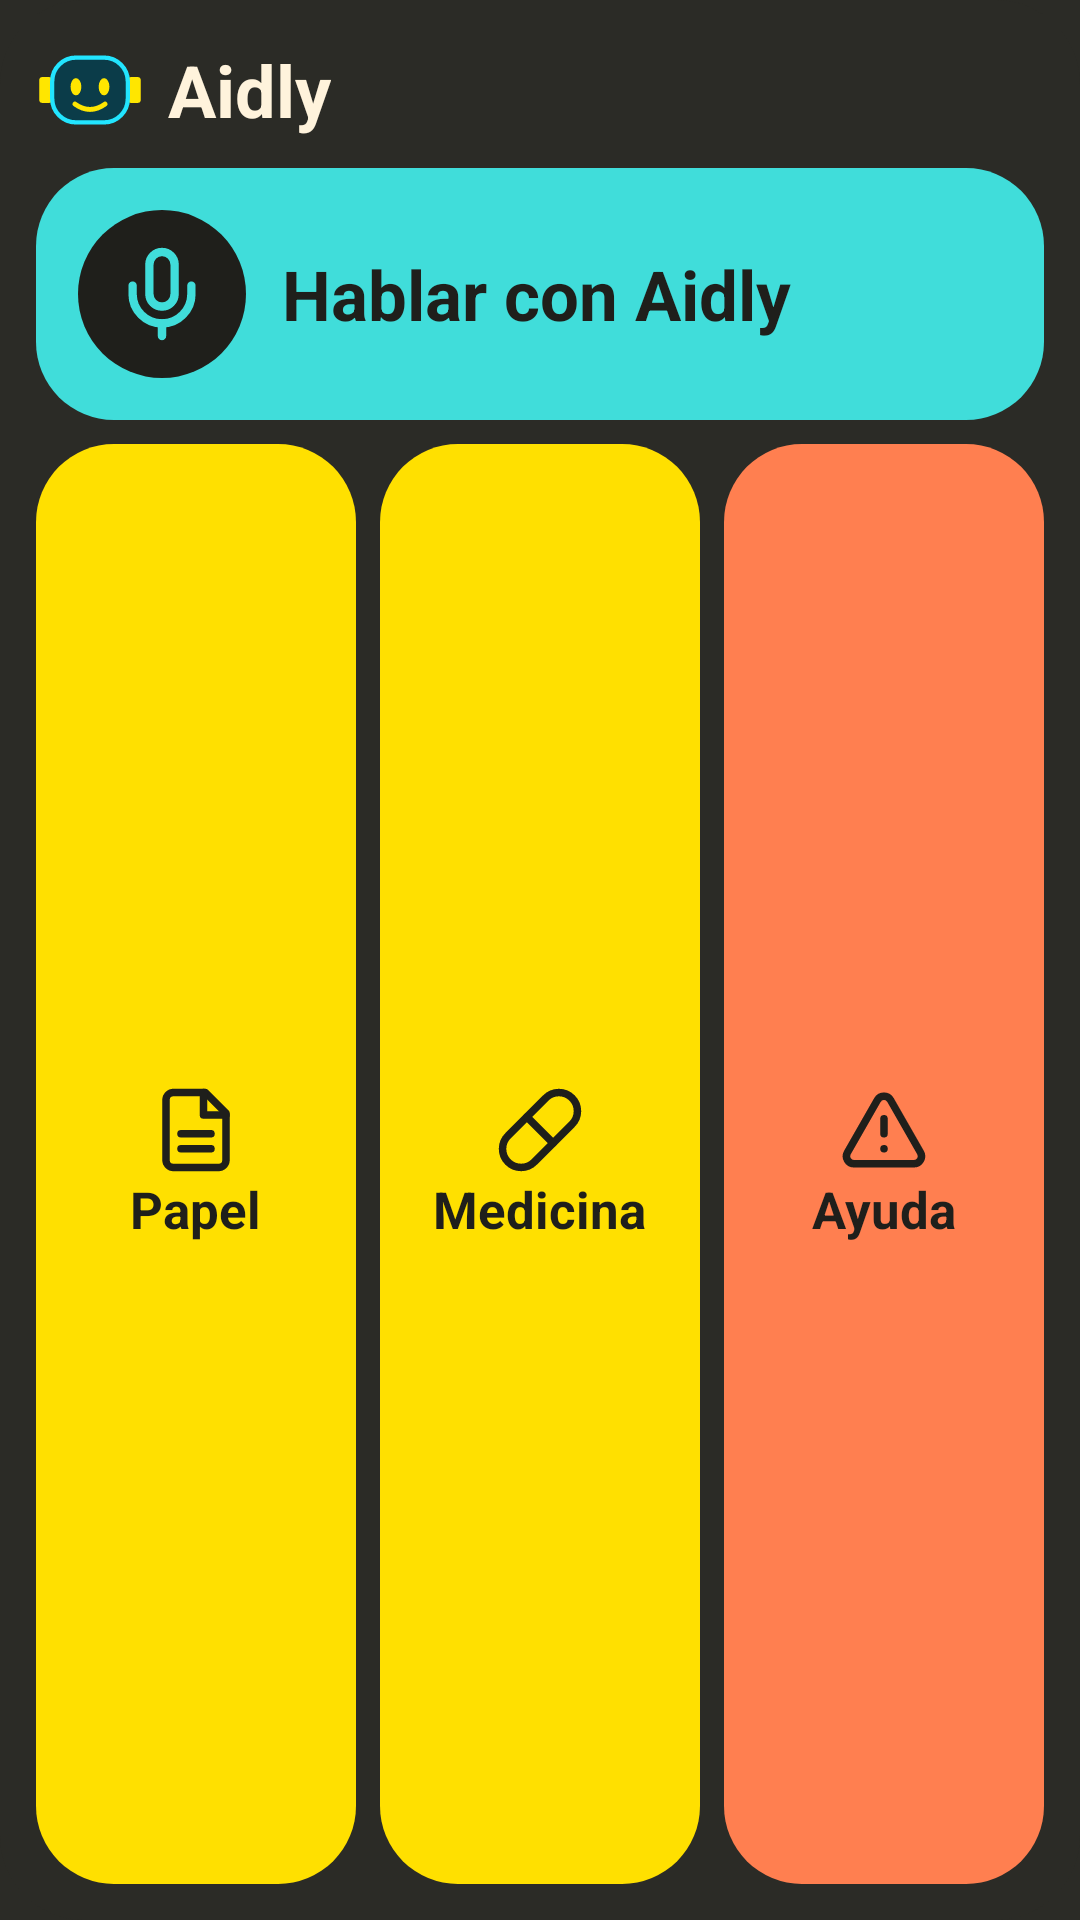

Named icons in this screenshot (1080 × 1920) and their bounding boxes, detection(x1, y1, x2, y2):
alert: detection(842, 1092, 926, 1168)
doc: detection(162, 1088, 230, 1172)
mic: detection(78, 210, 246, 378)
pill: detection(498, 1088, 582, 1172)
